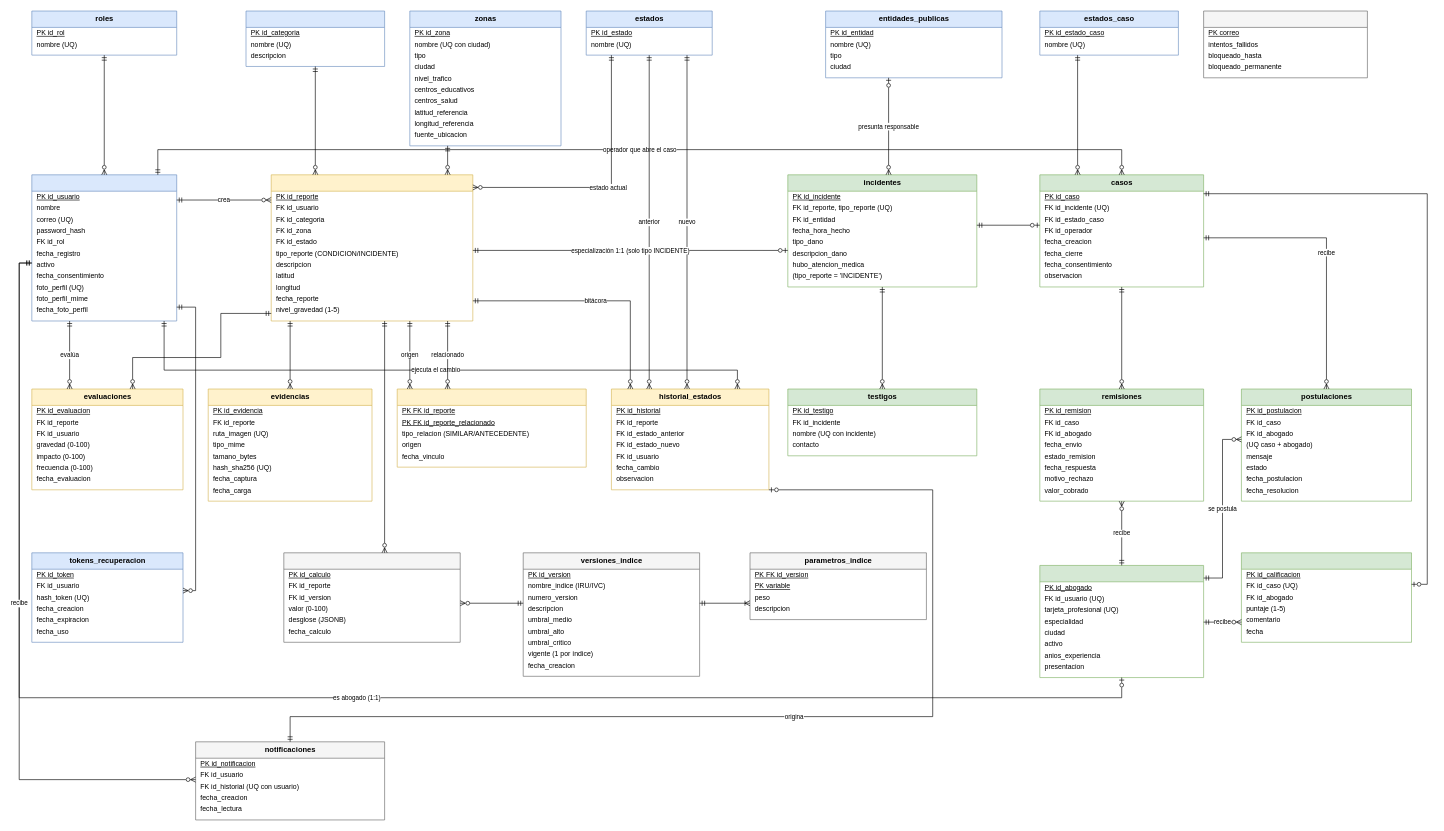
Some shapes in this 1444 by 831 pixel diagram are drawn without their labels. Here are the shapes that lost their labels. From the top down, the box of each, then its label:
(245, 10, 385, 66): categorias
(1203, 10, 1367, 78): bloqueos_login
(31, 174, 177, 321): usuarios
(271, 174, 473, 321): reportes
(397, 388, 586, 467): reportes_relacionados
(283, 552, 460, 642): calculos_indice
(1241, 552, 1412, 642): calificaciones
(1039, 565, 1204, 678): abogados
